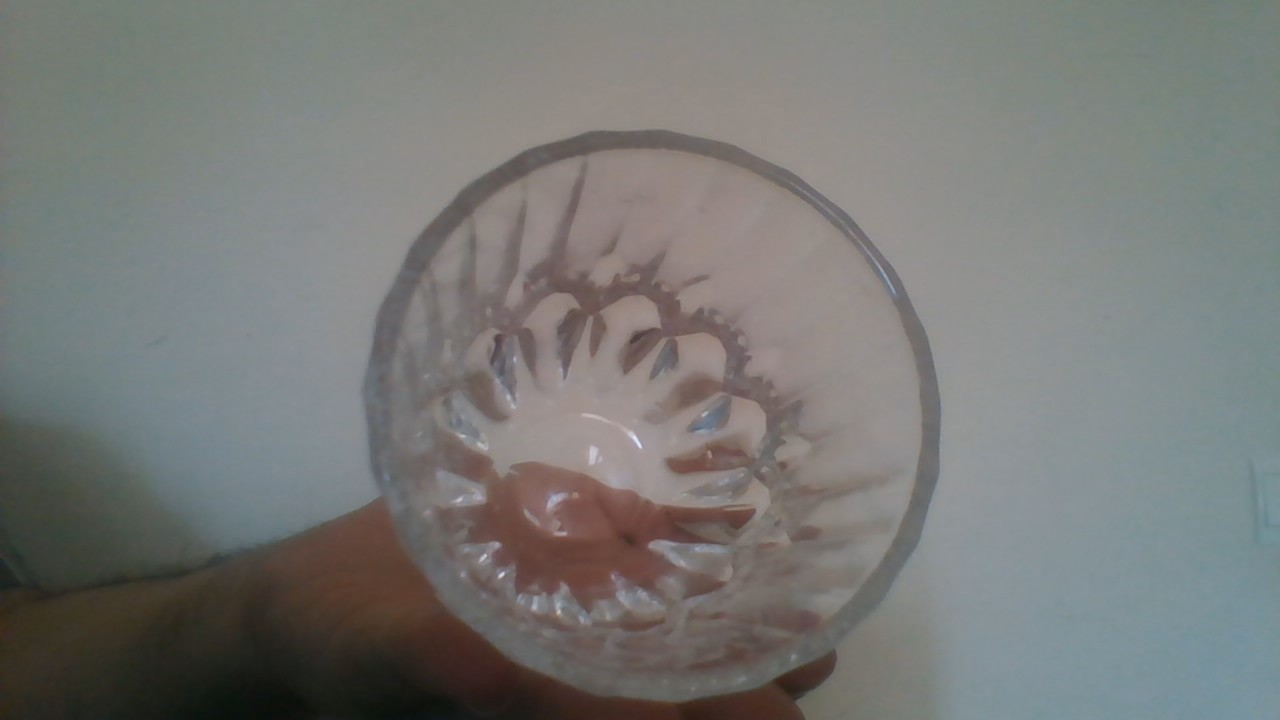glass: (357, 121, 967, 707)
